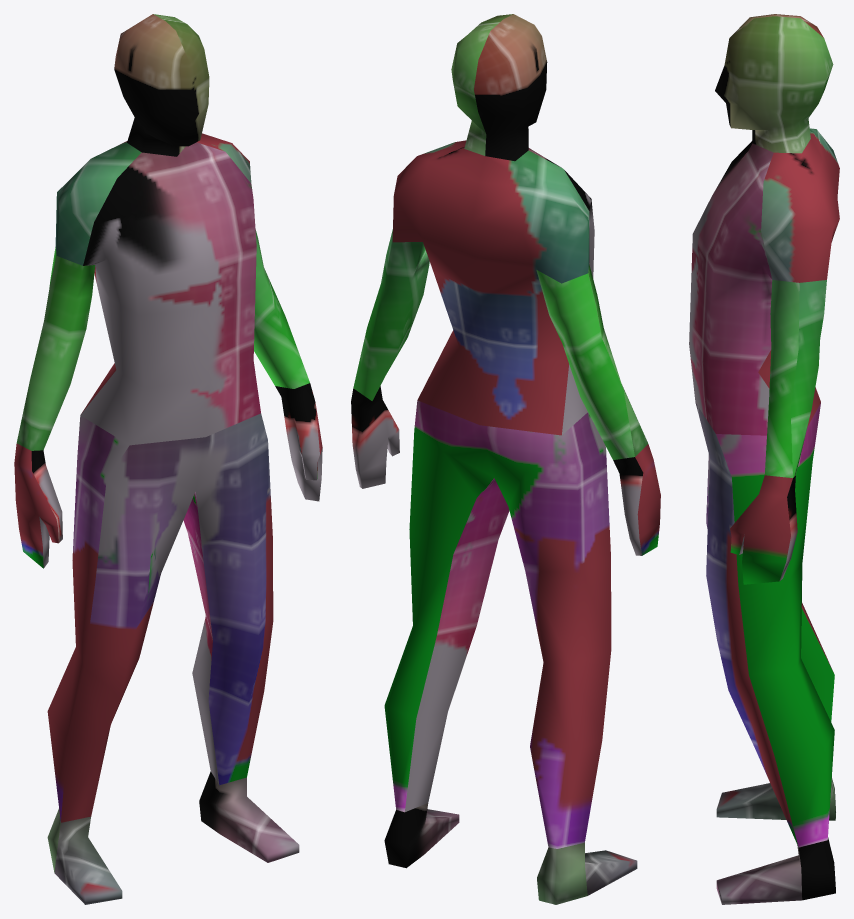
File: male_version.fbx
3 renders of one model, left to right at view 1: azimuth 30°, elevation 25°; view 2: azimuth 150°, elevation 25°; view 3: azimuth 270°, elevation 25°, orthographic.
Visible parts, largest first — view 1: man_Cube.001; view 2: man_Cube.001; view 3: man_Cube.001.
Part boxes in pixels (x1,y1,x2,y2): man_Cube.001: [14, 14, 322, 904]; man_Cube.001: [351, 14, 660, 904]; man_Cube.001: [689, 14, 839, 904].
Size of the model in its own units: 6402 by 17639 by 2882.
1 material, 1 textured.
